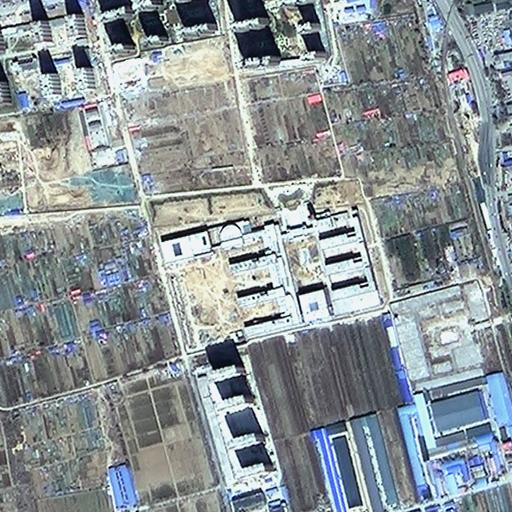school: (155, 202, 383, 345)
